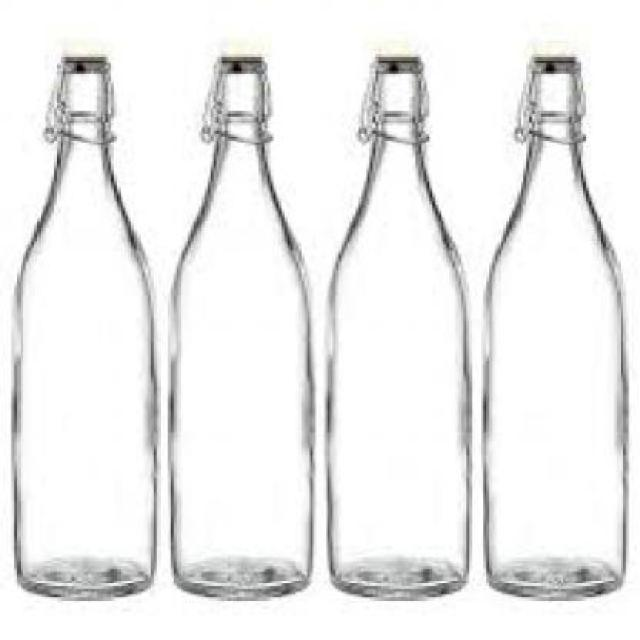kaca: (8, 70, 154, 592), (322, 72, 466, 596), (165, 71, 308, 592), (483, 70, 623, 598)
